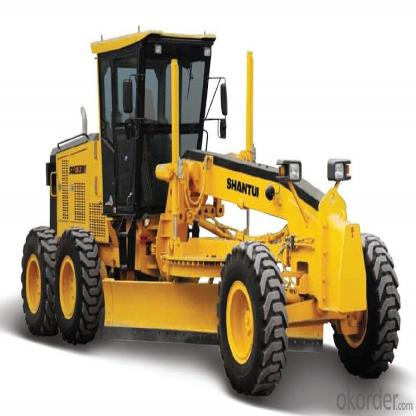bull_dozer/loader/grader: (17, 23, 416, 396)
